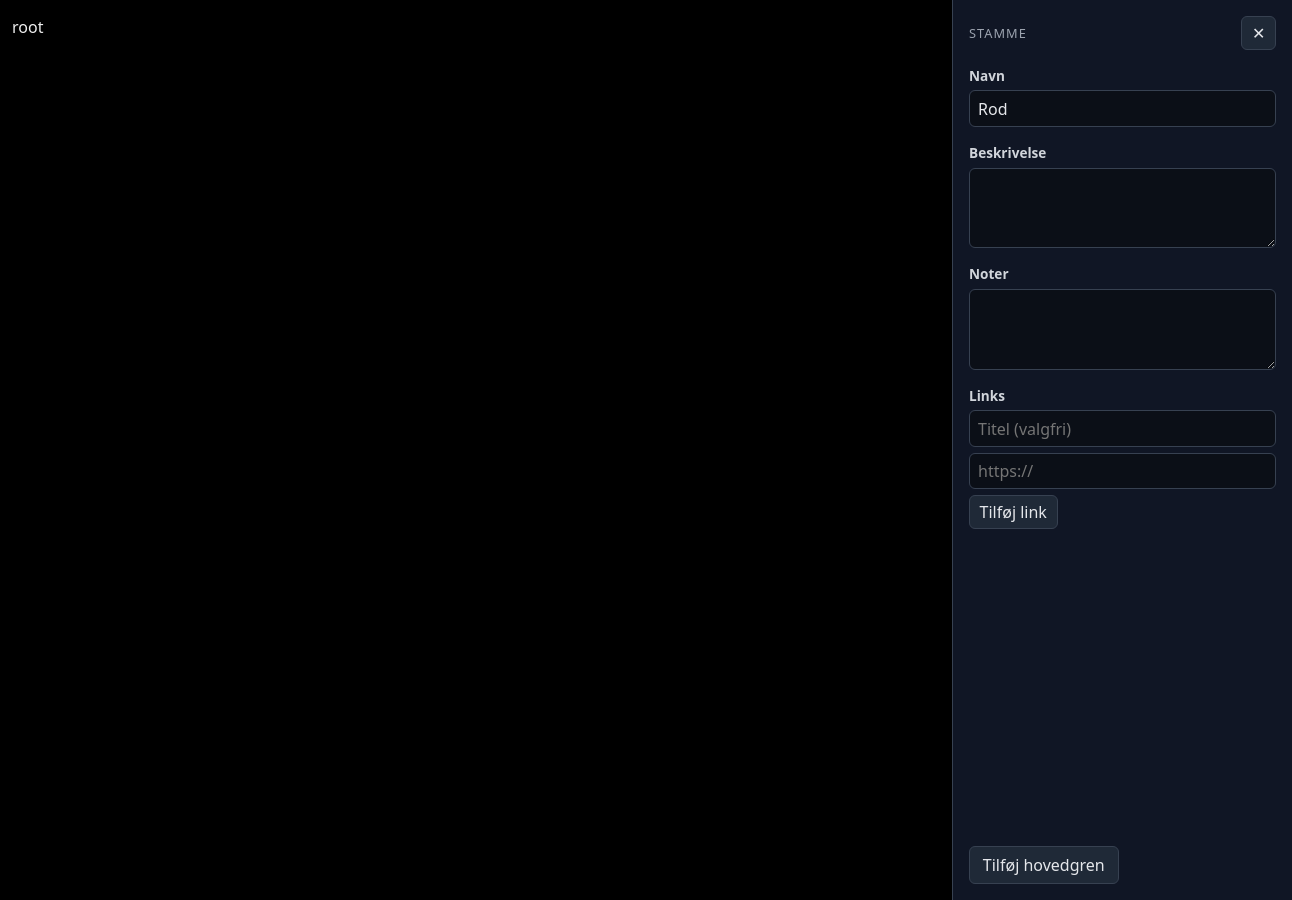
it: SidePanel › tilføj og slet › tilføjer en hovedgren fra stammen
The image size is (1292, 900).
Click the button "Tilføj hovedgren" at (1044, 865), box [969,846,1118,884]
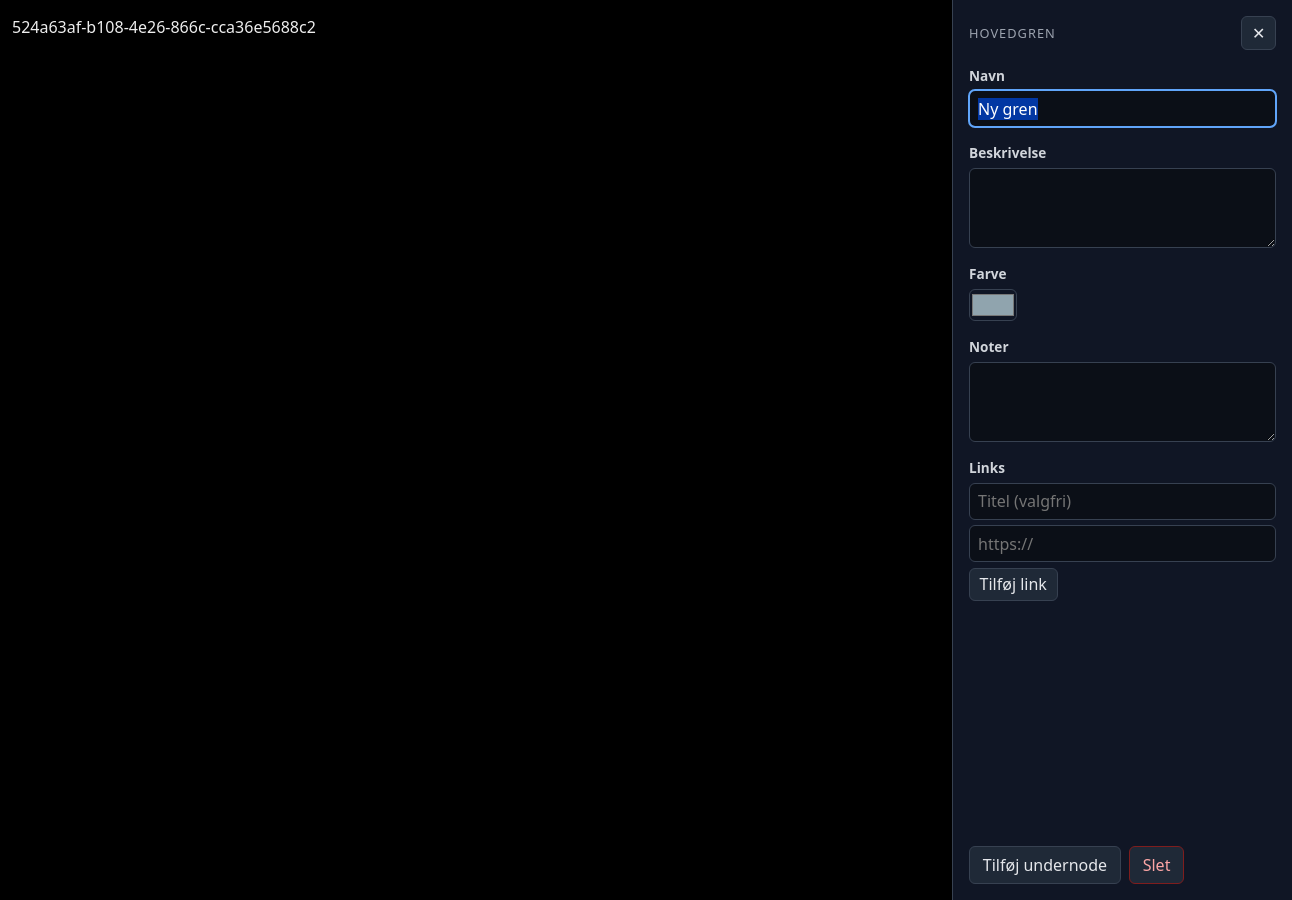
Now the field labelled "Navn" holds "Ny gren", box [969,90,1276,127]
Now the text "Hovedgren" is shown, box [969,24,1056,42]
